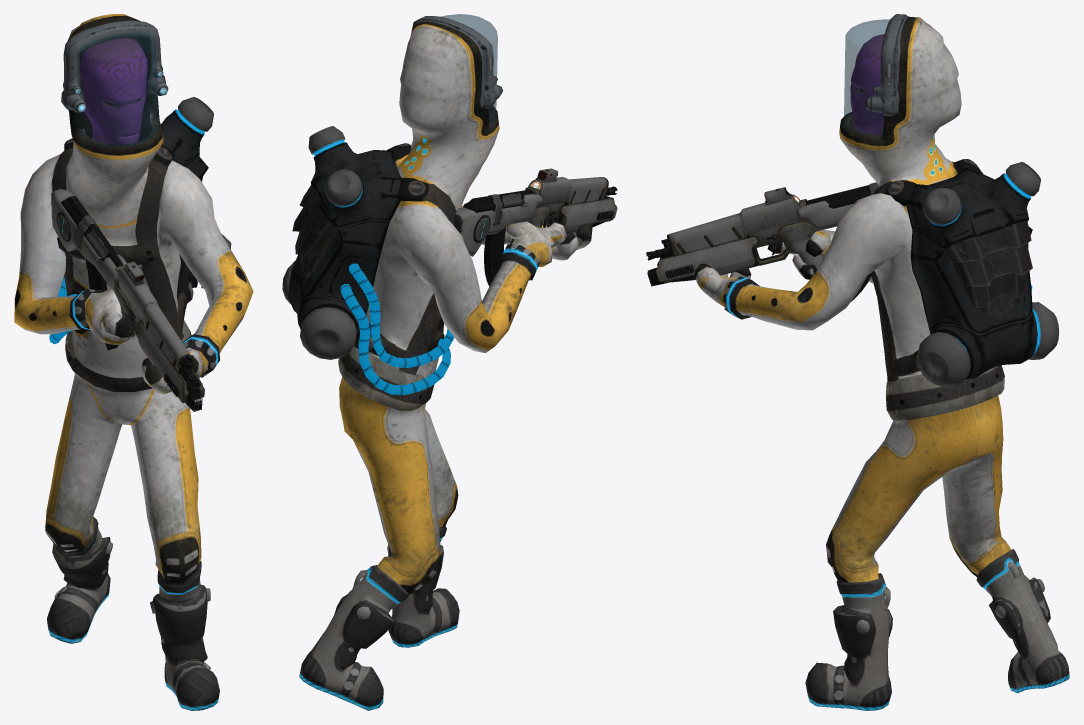
Rendered from blerk_the_alien.glb.
3 renders of one model, left to right at view 1: azimuth 30°, elevation 25°; view 2: azimuth 150°, elevation 25°; view 3: azimuth 270°, elevation 25°, orthographic. The views are drawn at different scales.
Parts seen in each view (by area): view 1: Object_5, Object_7, Object_2, Object_6, Object_3; view 2: Object_5, Object_3, Object_7, Object_2; view 3: Object_5, Object_3, Object_7, Object_2, Object_6.
Part boxes in pixels (x1,y1,x2,y2): Object_5: [14, 14, 253, 710]; Object_7: [51, 188, 204, 411]; Object_2: [77, 32, 158, 146]; Object_6: [80, 38, 147, 144]; Object_3: [49, 97, 231, 344]; Object_5: [299, 16, 592, 710]; Object_3: [282, 126, 454, 394]; Object_7: [454, 168, 617, 286]; Object_2: [441, 14, 497, 125]; Object_5: [694, 14, 1069, 710]; Object_3: [906, 162, 1059, 387]; Object_7: [646, 182, 878, 301]; Object_2: [844, 19, 889, 138]; Object_6: [850, 34, 884, 135].
Size of the model in its own units: 66.67 by 195 by 115.
5 materials, 4 textured.
